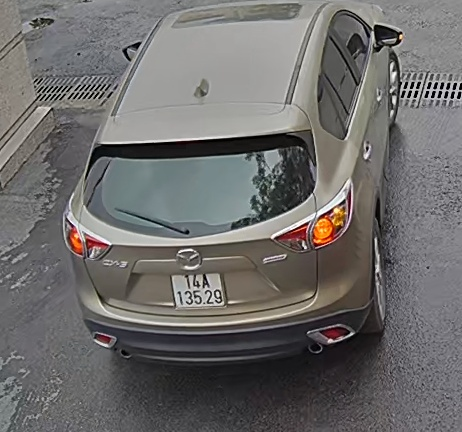vehicle plate: (169, 268, 225, 308)
